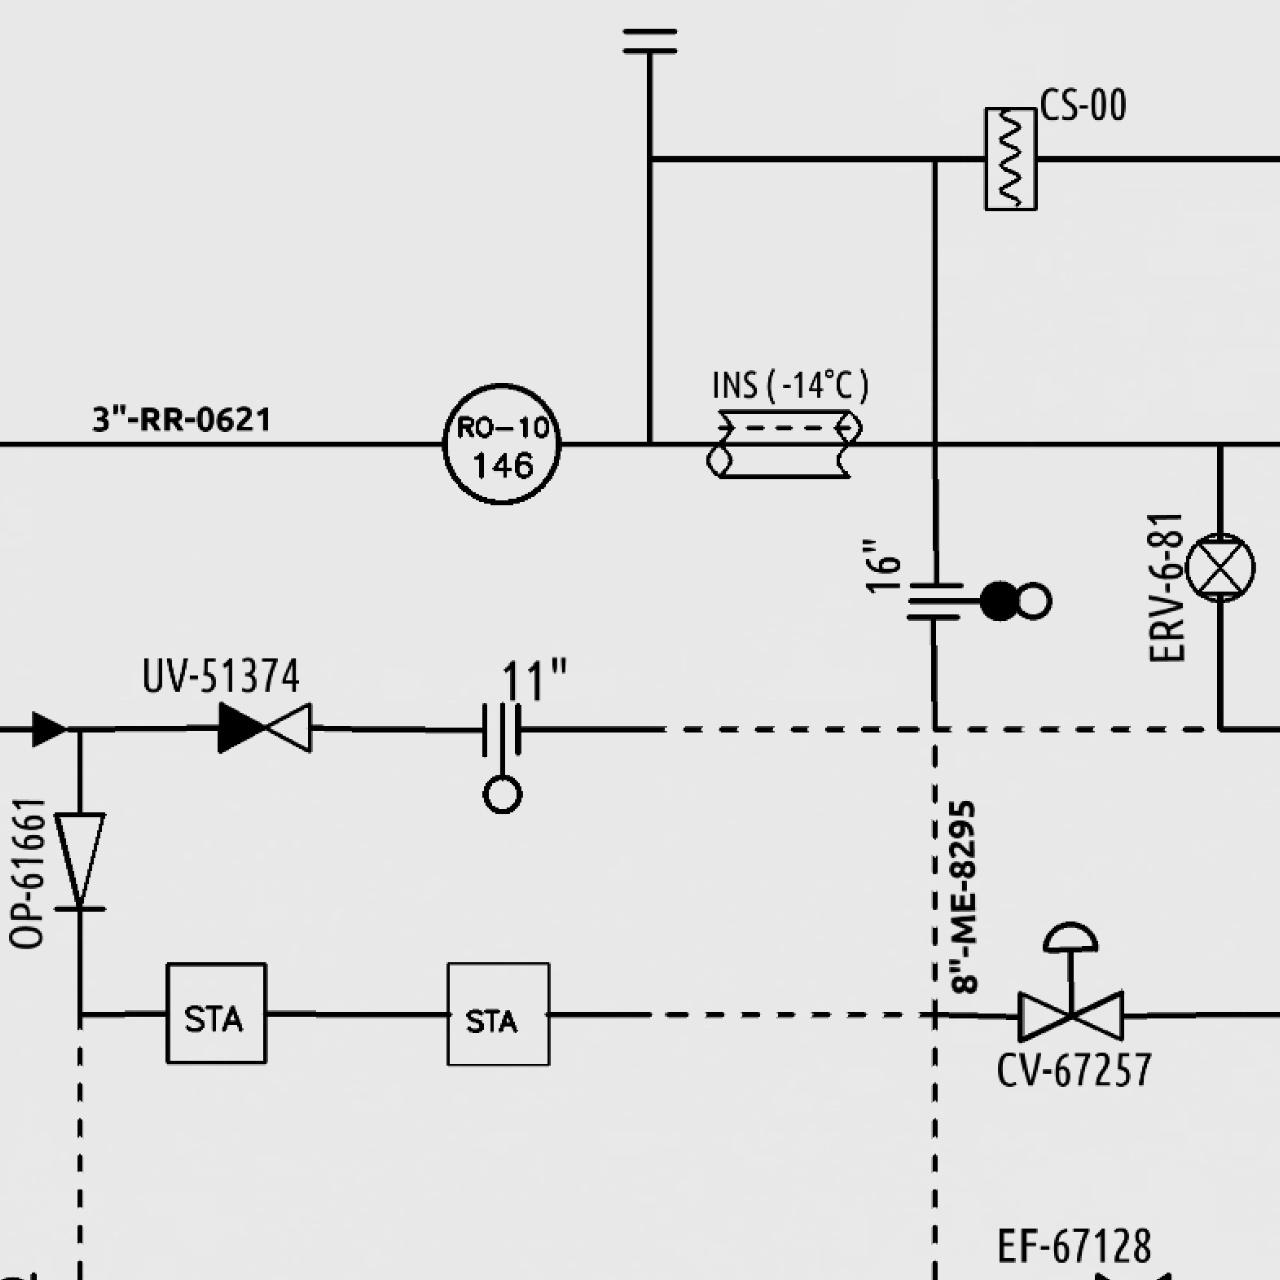Control-Panel: (435, 377, 566, 508)
Half closed valve: (213, 696, 315, 756)
